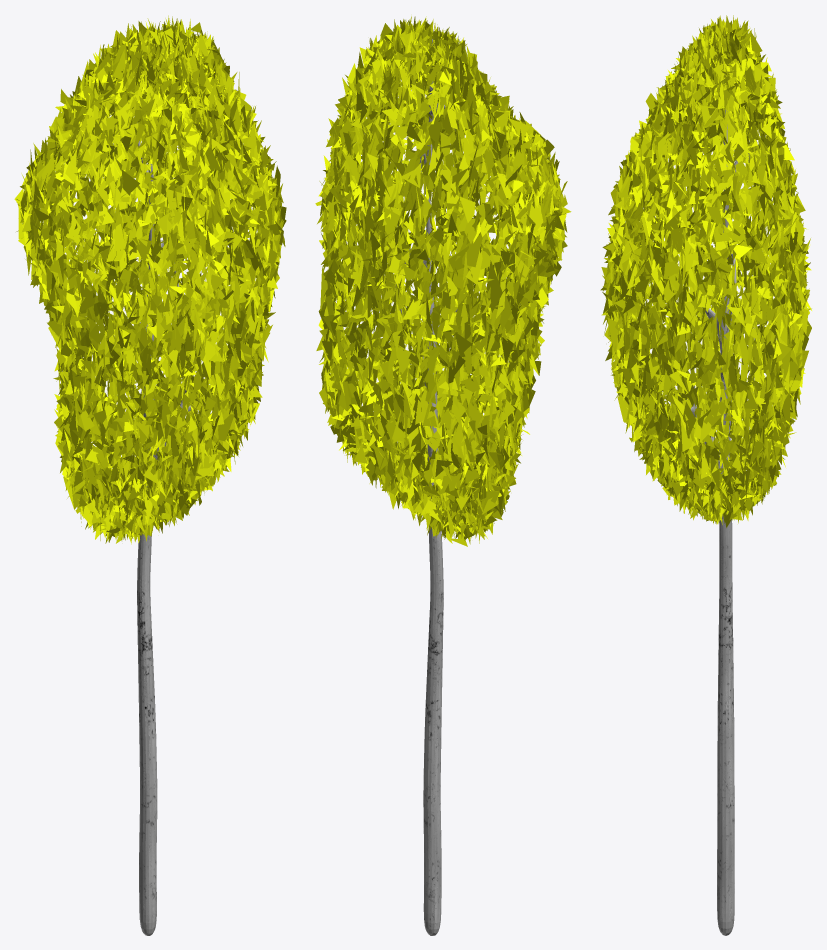
File: Trunk1bake.002.fbx
3 renders of one model, left to right at view 1: azimuth 30°, elevation 25°; view 2: azimuth 150°, elevation 25°; view 3: azimuth 270°, elevation 25°, orthographic.
Parts seen in each view (by area): view 1: Trunk1bake.002; view 2: Trunk1bake.002; view 3: Trunk1bake.002.
Part boxes in pixels (x1,y1,x2,y2): Trunk1bake.002: [14, 15, 286, 935]; Trunk1bake.002: [315, 16, 571, 935]; Trunk1bake.002: [600, 15, 811, 935].
Bounding box in the file's own units: 739 × 2626 × 550.
2 materials, 1 textured.
